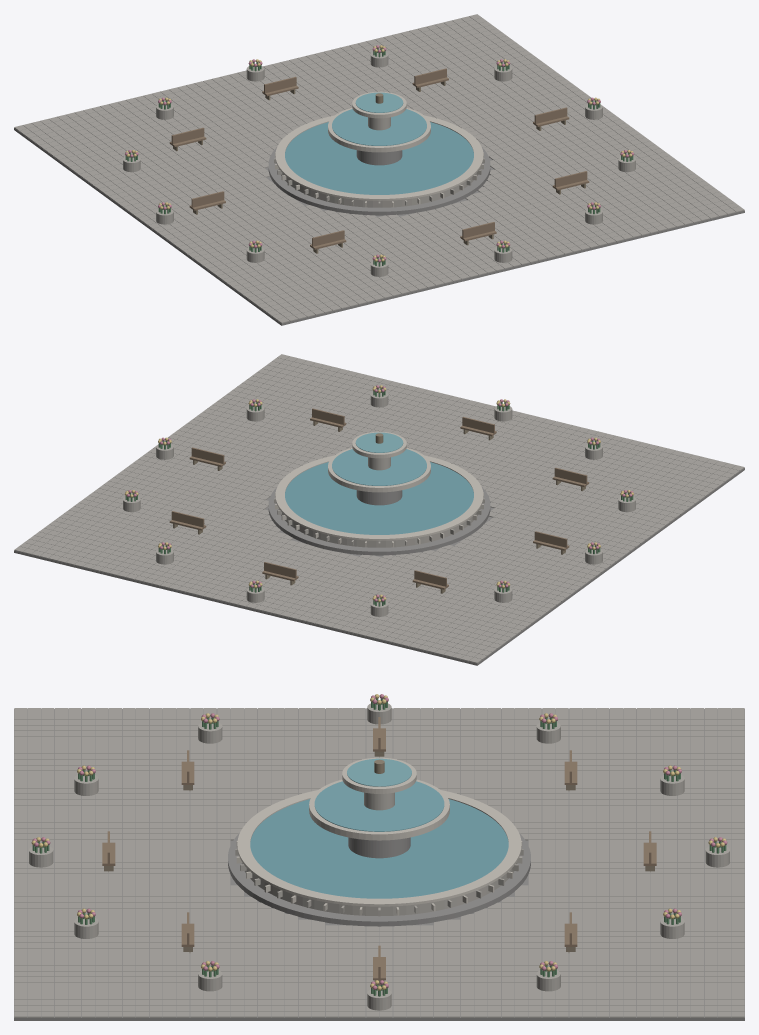
The model's file is zerconda_walkable_fountain_plaza.glb.
3 renders of one model, top to bottom at view 1: azimuth 30°, elevation 25°; view 2: azimuth 150°, elevation 25°; view 3: azimuth 270°, elevation 25°, orthographic. The views are drawn at different scales.
Parts seen in each view (by area): view 1: paver_batch_0_2, paver_batch_2_2, paver_batch_0_0, paver_batch_2_0, paver_batch_1_2, paver_batch_0_1, paver_batch_2_1, paver_batch_1_0, outer_water, outer_basin_lip, fountain_base_stone, plaza_substrate (+5 smaller); view 2: paver_batch_0_0, paver_batch_2_0, paver_batch_0_2, paver_batch_2_2, paver_batch_1_0, paver_batch_0_1, paver_batch_2_1, paver_batch_1_2, outer_water, outer_basin_lip, fountain_base_stone, plaza_substrate (+5 smaller); view 3: paver_batch_2_0, paver_batch_2_2, paver_batch_0_0, paver_batch_0_2, paver_batch_2_1, paver_batch_1_0, paver_batch_1_2, paver_batch_0_1, plaza_substrate, outer_water, outer_basin_lip, fountain_base_stone (+6 smaller).
Part boxes in pixels (x1,y1,x2,y2): paver_batch_0_2: (192,220,435,323); paver_batch_2_2: (502,144,744,248); paver_batch_0_0: (14,89,257,192); paver_batch_2_0: (323,14,565,114); paver_batch_1_2: (347,182,590,285); paver_batch_0_1: (103,155,345,257); paver_batch_2_1: (423,79,655,182); paver_batch_1_0: (169,52,376,154); outer_water: (285,122,473,194); outer_basin_lip: (275,115,483,200); fountain_base_stone: (268,147,490,215); plaza_substrate: (14,128,744,325); paver_batch_0_0: (323,560,566,663); paver_batch_2_0: (14,484,256,588); paver_batch_0_2: (501,429,744,532); paver_batch_2_2: (193,354,435,454); paver_batch_1_0: (168,522,411,625); paver_batch_0_1: (413,495,655,597); paver_batch_2_1: (103,419,335,522); paver_batch_1_2: (382,392,589,494); outer_water: (285,462,473,534); outer_basin_lip: (275,455,483,540); fountain_base_stone: (268,487,490,555); plaza_substrate: (14,468,744,665); paver_batch_2_0: (501,914,744,1017); paver_batch_2_2: (14,914,257,1017); paver_batch_0_0: (501,708,744,810); paver_batch_0_2: (14,708,257,810); paver_batch_2_1: (258,914,500,1017); paver_batch_1_0: (501,811,744,913); paver_batch_1_2: (14,811,257,913); paver_batch_0_1: (258,708,500,810); plaza_substrate: (14,709,744,1020); outer_water: (250,799,508,898); outer_basin_lip: (237,790,521,906); fountain_base_stone: (228,833,530,926).
Bounding box in the file's own units: 54 × 8.52 × 54.
